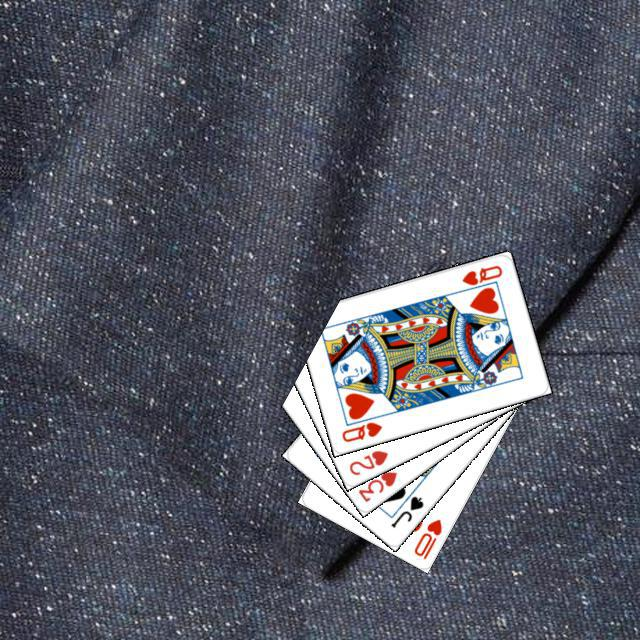10h: (409, 514, 444, 561)
2h: (344, 445, 390, 477)
3h: (353, 466, 398, 504)
Js: (386, 491, 425, 530)
Qh: (455, 260, 504, 294), (337, 417, 384, 444)
